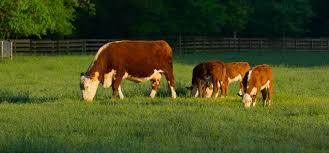cow: (81, 40, 177, 104), (207, 62, 252, 98), (238, 65, 272, 109), (187, 61, 224, 98)
